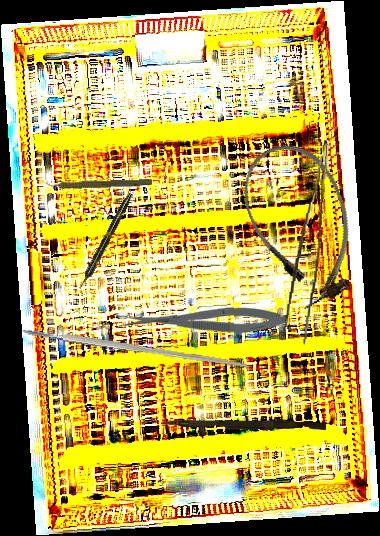Cannula: (229, 130, 374, 317)
Handpiece: (76, 191, 135, 291), (40, 175, 153, 191)
Micro Scissor: (124, 304, 287, 335)
Pusher: (160, 417, 327, 433)
Scalpel Handle: (21, 325, 251, 371)
Tissue Forceps: (282, 137, 330, 346)
